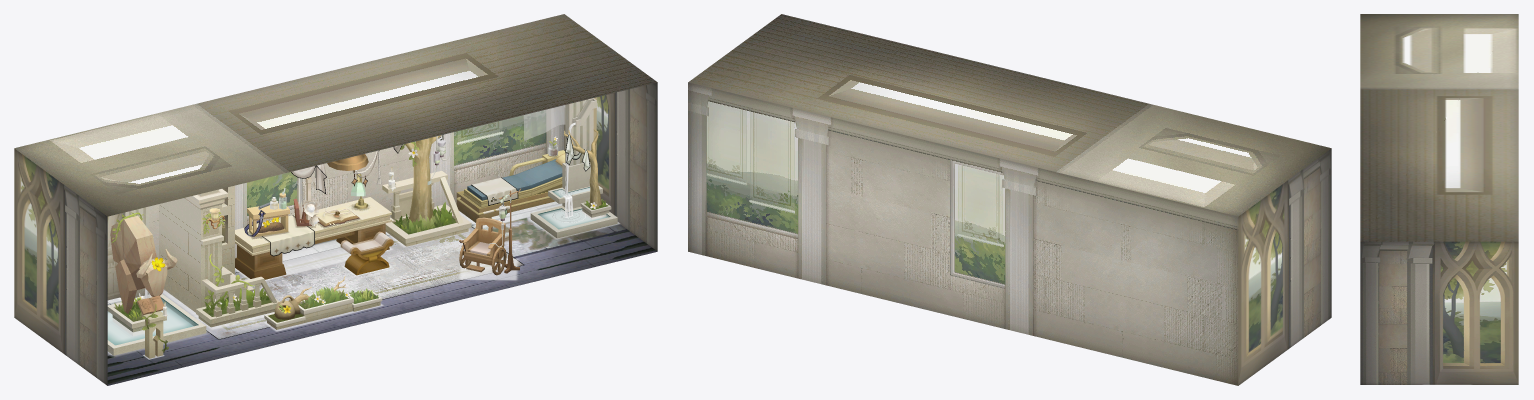
The model's file is minosMed.glb.
3 views of the same model, side by side, from view 1: azimuth 30°, elevation 25°; view 2: azimuth 150°, elevation 25°; view 3: azimuth 270°, elevation 25° (orthographic). The views are drawn at different scales.
Parts seen in each view (by area): view 1: ROOM_room, ROOM_floor, furni_minosMed_carpet_01, furni_minosMed_shelf_01, furni_minosMed_sculpture_02, furni_minosMed_tree_01, furni_minosMed_table_02, furni_minosMed_sculpture_03.001, furni_minosMed_table_01, furni_minosMed_sculpture_02.001, furni_minosMed_bed_02, furni_minosMed_shelf_02 (+25 smaller); view 2: ROOM_room, ROOM_LDoor; view 3: ROOM_room, ROOM_RDoor.
Part boxes in pixels (box(x1,y1,x2,y2)): ROOM_room: box(14, 14, 657, 385); ROOM_floor: box(107, 201, 657, 385); furni_minosMed_carpet_01: box(162, 226, 524, 339); furni_minosMed_shelf_01: box(159, 185, 274, 327); furni_minosMed_sculpture_02: box(107, 212, 177, 335); furni_minosMed_tree_01: box(382, 135, 471, 246); furni_minosMed_table_02: box(235, 174, 391, 255); furni_minosMed_sculpture_03.001: box(548, 98, 611, 219); furni_minosMed_table_01: box(235, 198, 389, 279); furni_minosMed_sculpture_02.001: box(530, 129, 617, 238); furni_minosMed_bed_02: box(456, 140, 565, 215); furni_minosMed_shelf_02: box(196, 189, 279, 324); ROOM_room: box(688, 14, 1331, 385); ROOM_LDoor: box(1298, 251, 1317, 341); ROOM_room: box(1360, 14, 1518, 384); ROOM_RDoor: box(1383, 319, 1416, 384).
Size of the model in its own units: 7.56 by 2.2 by 2.21.
16 materials, 16 textured.
